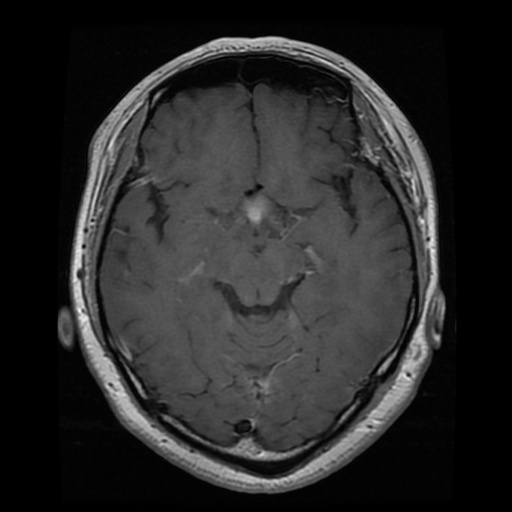pituitary: (241, 191, 277, 226)
